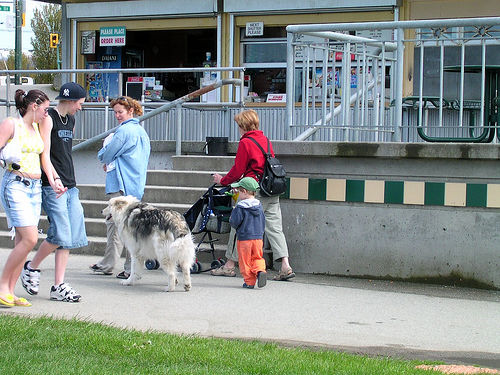without_mask: (23, 90, 50, 125), (58, 89, 86, 117), (110, 98, 134, 125), (234, 178, 258, 201)
